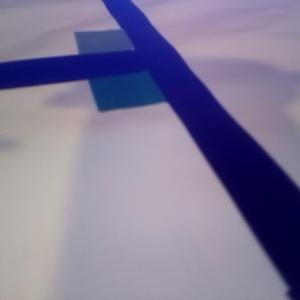bottom_left: (88, 54, 179, 111)
top_left: (73, 27, 154, 70)
